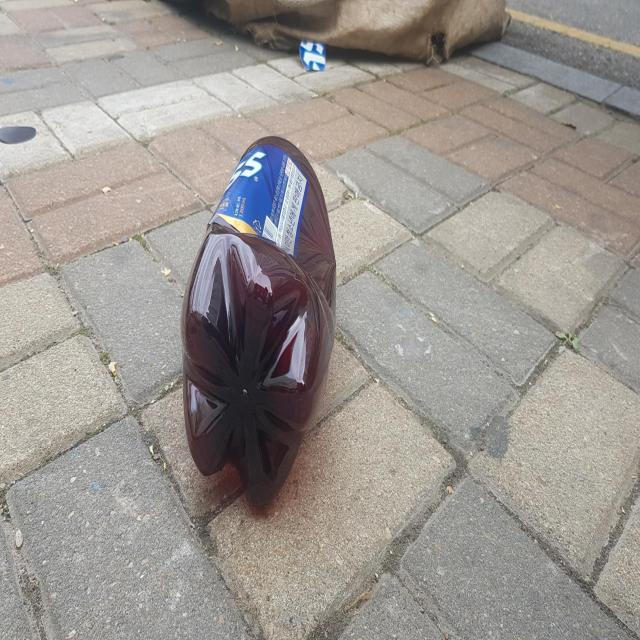plastic: (181, 135, 336, 505)
